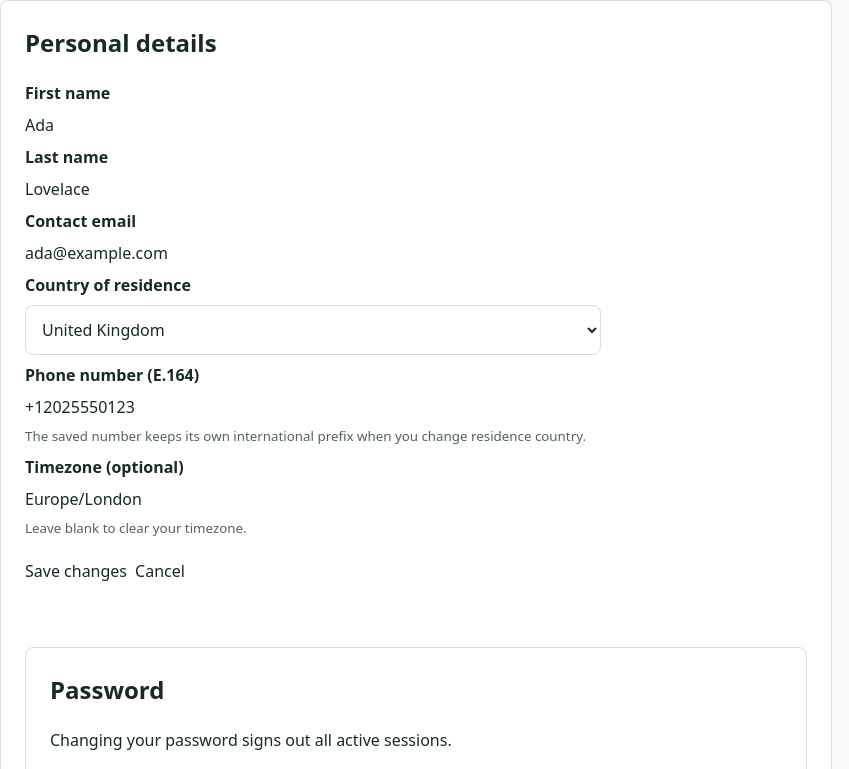
account form › keeps an unknown save draft until refresh, blocks replay, then lets Cancel restore refreshed data
Replace the text in the field with id "account-first-name" with "Augusta" at point(313, 125), box 25,113 -> 601,137
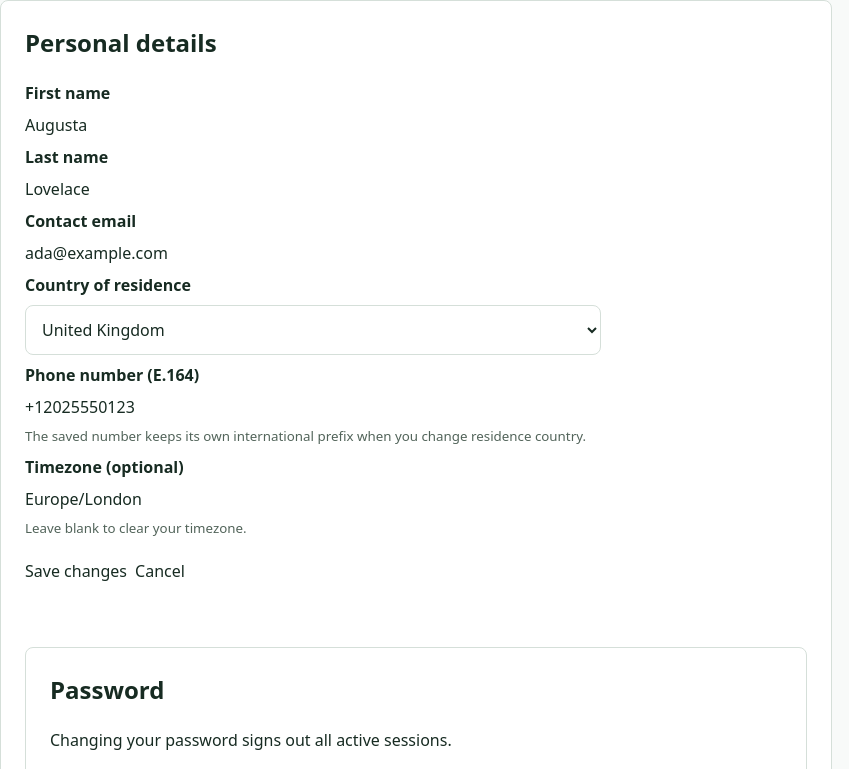
Submit the form that starts with "First name", box 25,81 -> 601,583
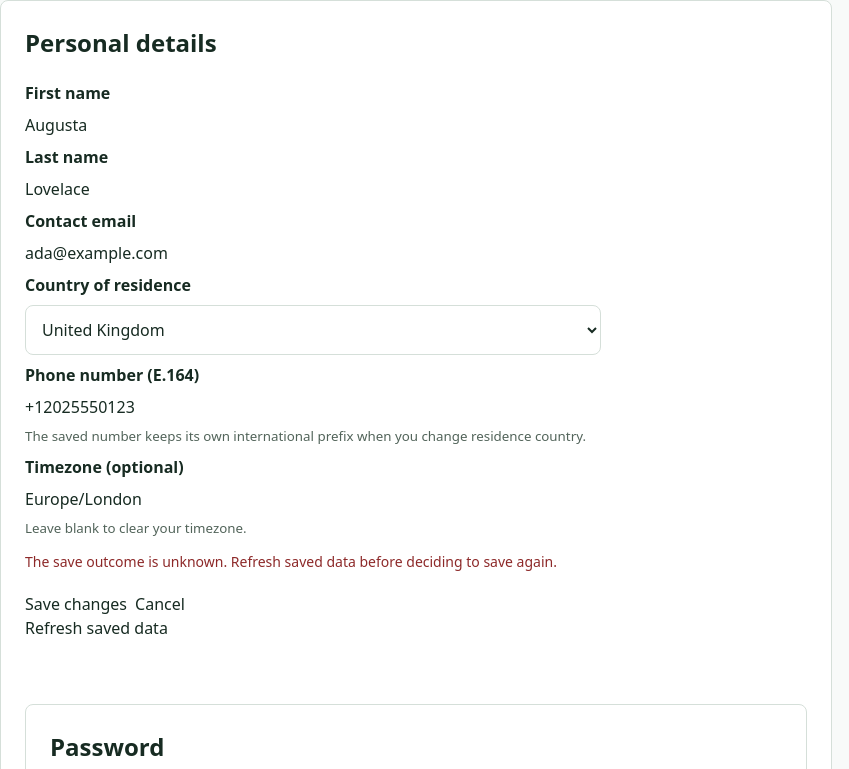
Expected: the text "save outcome is unknown" is shown, 25,552 -> 557,571
Expected: the button "Save changes" is disabled, 25,592 -> 127,616
Click the button "Refresh saved data" at point(96, 628), box 25,616 -> 168,640
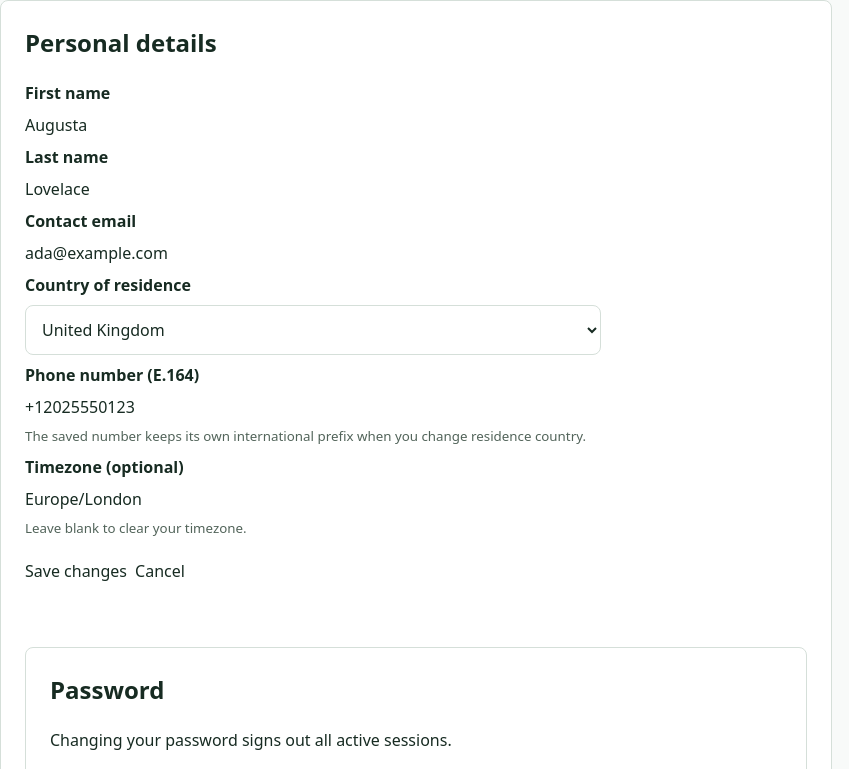
Expected: the button "Save changes" is enabled, 25,559 -> 127,583
Click the button "Cancel" at point(160, 571), box 135,559 -> 185,583
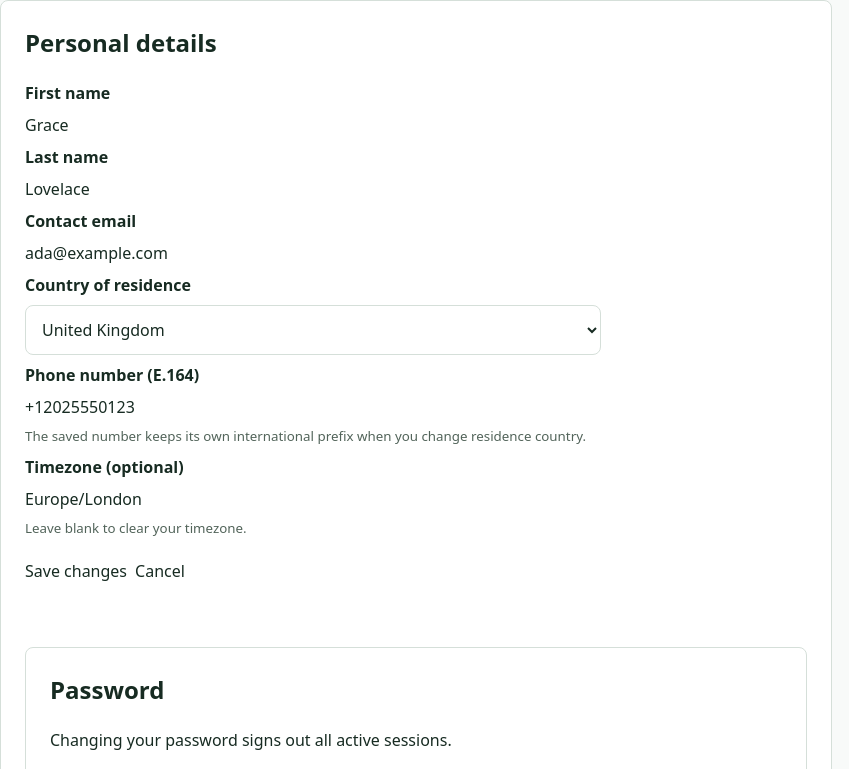
Expected: the field with id "account-first-name" holds "Grace", 25,113 -> 601,137
